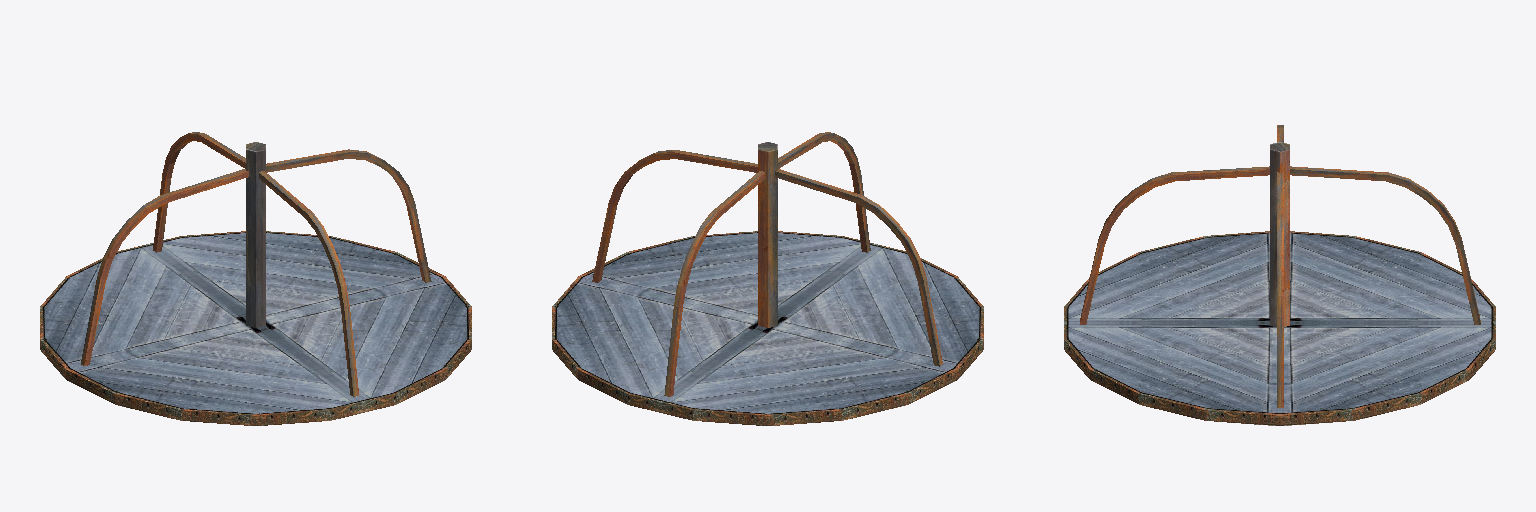
3 renders of one model, left to right at view 1: azimuth 30°, elevation 25°; view 2: azimuth 150°, elevation 25°; view 3: azimuth 270°, elevation 25°, orthographic.
Parts seen in each view (by area): view 1: Teeter03; view 2: Teeter03; view 3: Teeter03.
Part boxes in pixels (x1,y1,x2,y2): Teeter03: (40,132,471,425); Teeter03: (552,132,983,425); Teeter03: (1064,125,1495,425).
Size of the model in its own units: 1442 by 791 by 1420.
Materials: 1 (1 with a texture image).